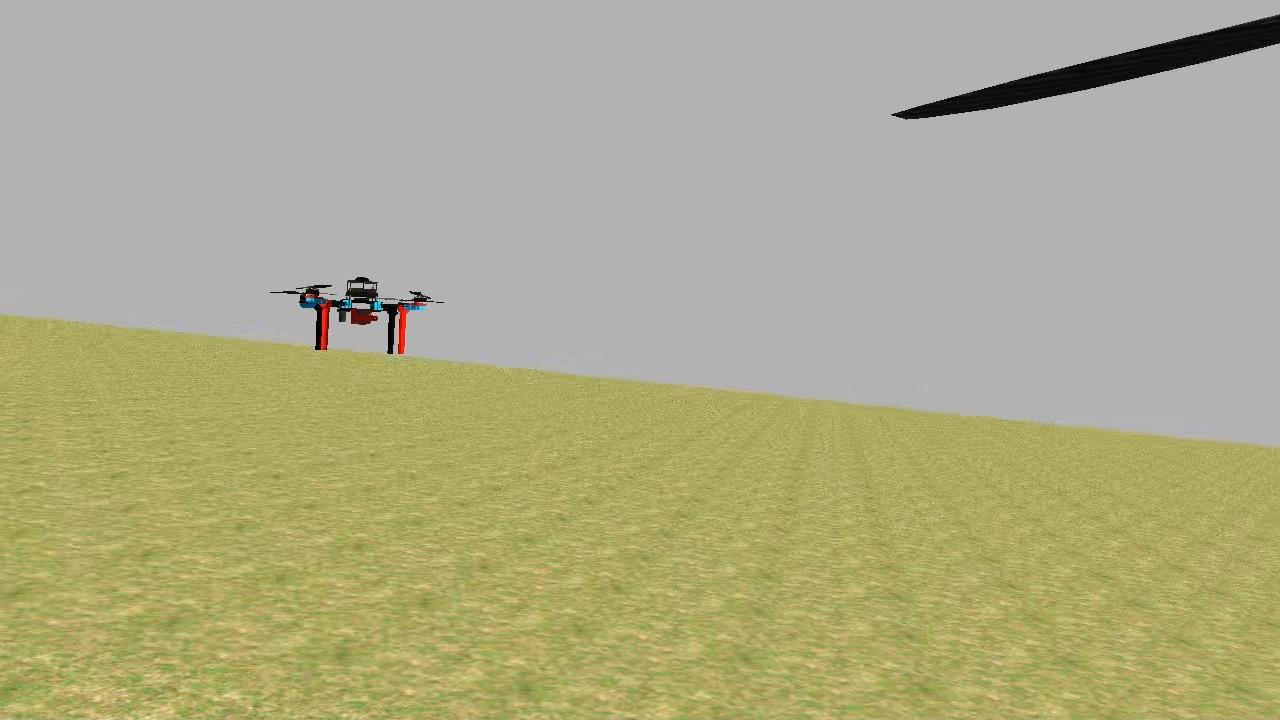UAV: (294, 264, 434, 358)
